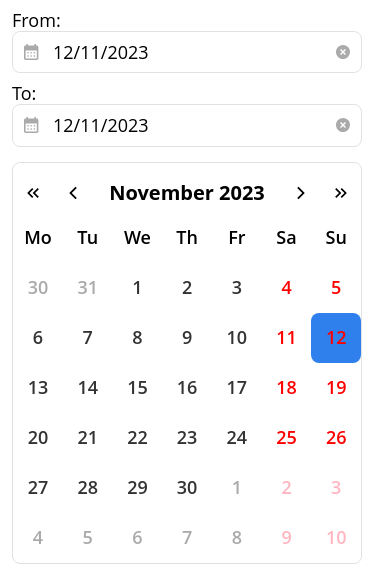
Test: RangePicker › should handle mouse events
Press the mouse on the text "12" at (336,338), box left=311, top=313, right=361, bottom=363
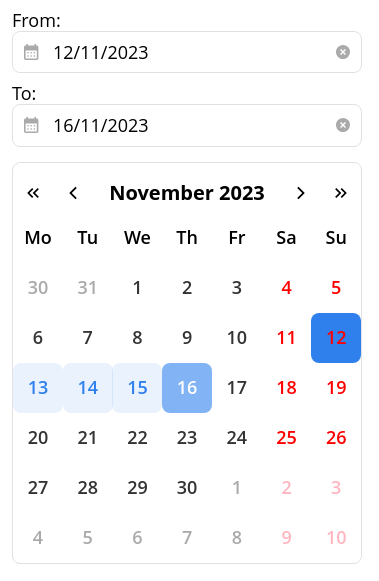
Expected: the field with test id "range-from-input" holds "12/11/2023", left=13, top=32, right=359, bottom=72
Now the field with test id "range-to-input" holds "16/11/2023", box left=13, top=105, right=359, bottom=146
